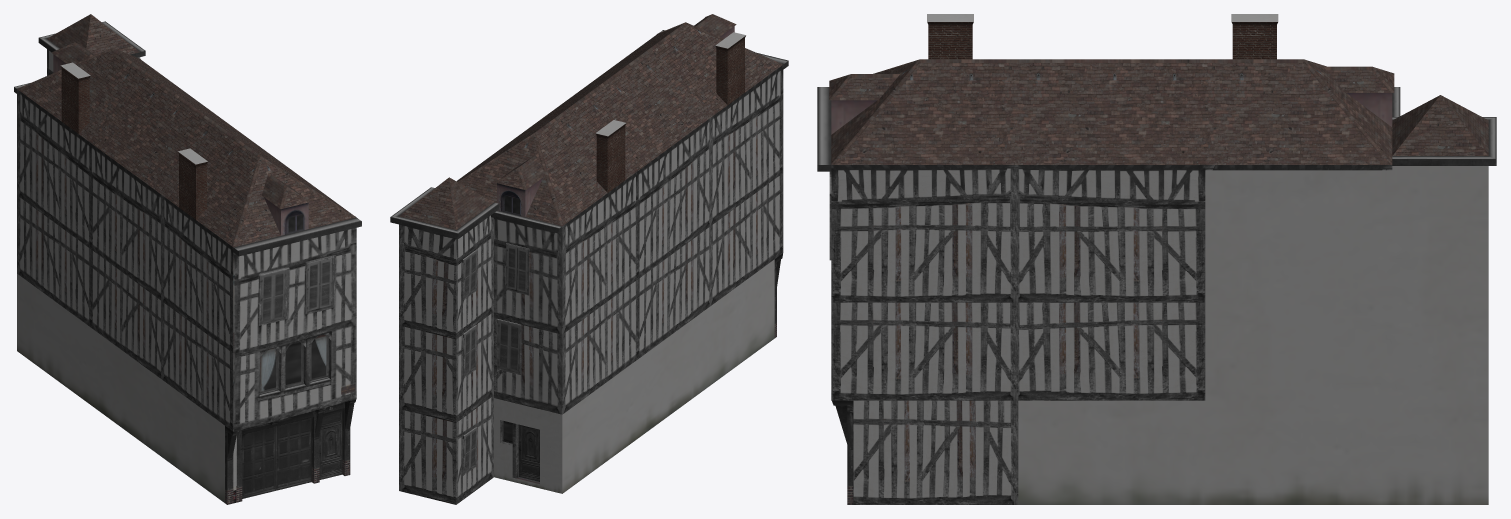
Rendered from troyes_house_2_france.glb.
3 renders of one model, left to right at view 1: azimuth 30°, elevation 25°; view 2: azimuth 150°, elevation 25°; view 3: azimuth 270°, elevation 25°, orthographic. The views are drawn at different scales.
Parts seen in each view (by area): view 1: 16_16_0; view 2: 16_16_0; view 3: 16_16_0.
Part boxes in pixels (bbox=[...]): 16_16_0: bbox=[14, 14, 361, 504]; 16_16_0: bbox=[390, 14, 788, 504]; 16_16_0: bbox=[817, 14, 1496, 504].
Bounding box in the file's own units: 4.83 × 11.36 × 16.95.
1 material, 1 textured.
